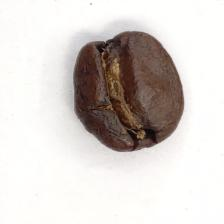NG: (92, 34, 156, 142)
